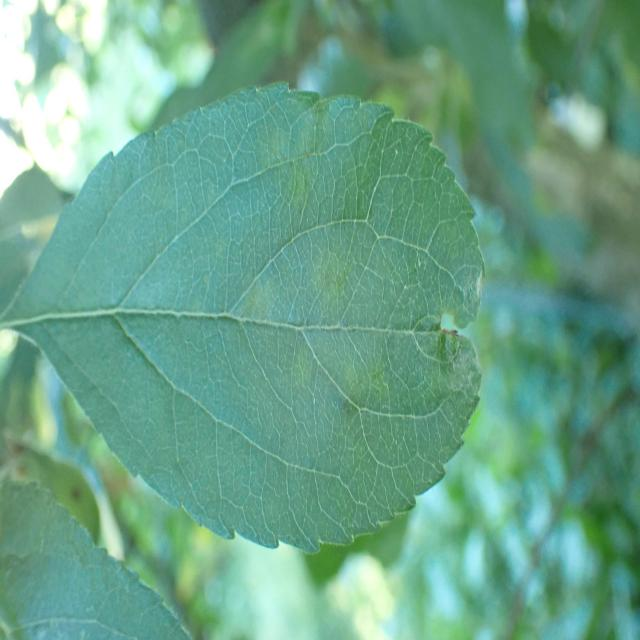scab: (75, 120, 470, 494)
